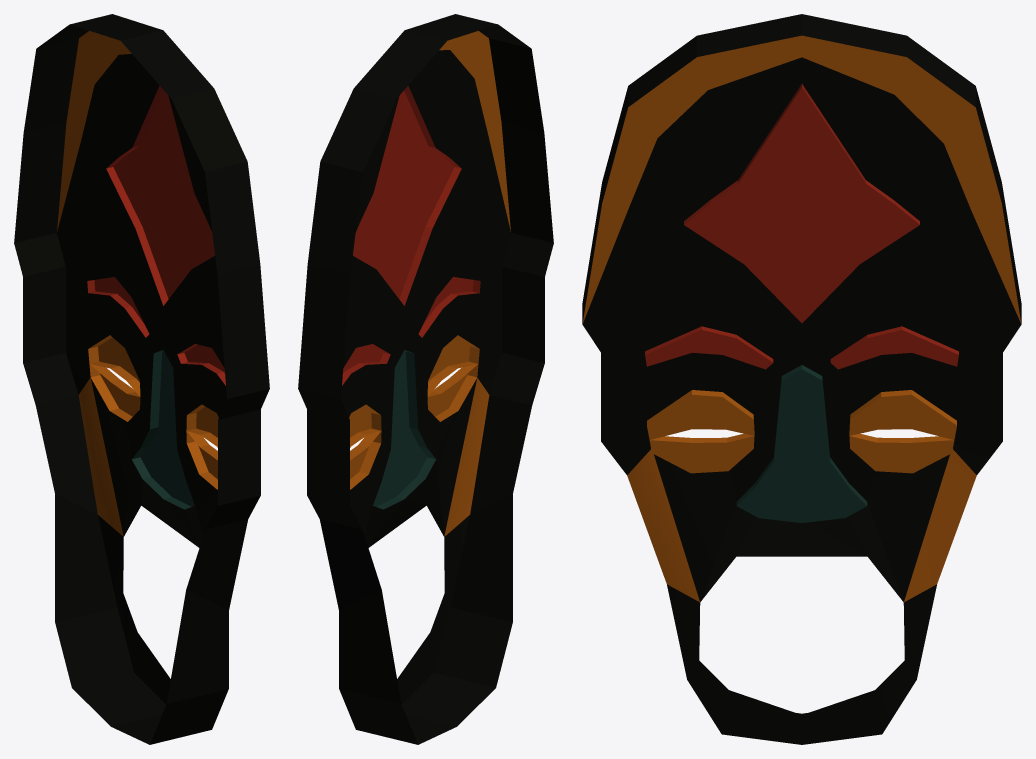
Rendered from Mask2_Mesh 1.obj.
3 views of the same model, side by side, from view 1: azimuth 30°, elevation 25°; view 2: azimuth 150°, elevation 25°; view 3: azimuth 270°, elevation 25° (orthographic). The views are drawn at different scales.
Visible parts, largest first — view 1: Mask1 group1; view 2: Mask1 group1; view 3: Mask1 group1.
Part boxes in pixels (<box>): Mask1 group1: <box>14,14,269,744</box>; Mask1 group1: <box>298,14,553,744</box>; Mask1 group1: <box>582,14,1021,744</box>.
Bounding box in the file's own units: 1.74 × 18.27 × 10.31.
